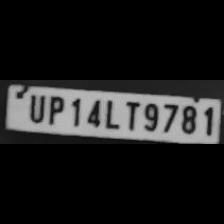1: (198, 102, 218, 136), (66, 95, 82, 127)
4: (83, 96, 103, 128)
7: (158, 100, 178, 134)
8: (178, 102, 198, 134)
9: (139, 100, 159, 132)
L: (101, 97, 121, 129)
P: (44, 93, 66, 125)
T: (121, 99, 139, 131)
U: (24, 92, 46, 124)
